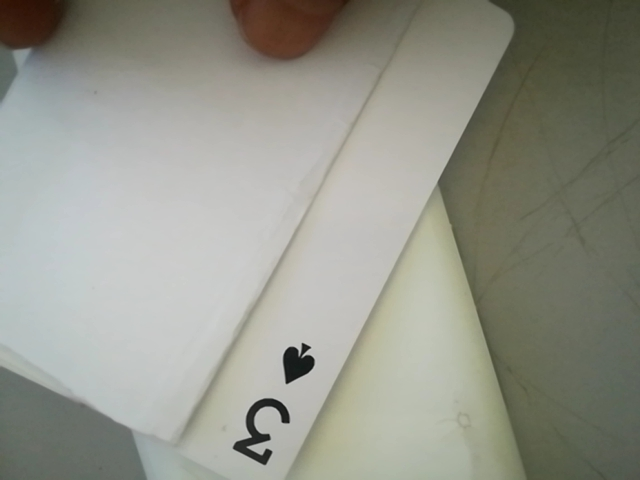ht 3: (209, 336, 327, 477)
